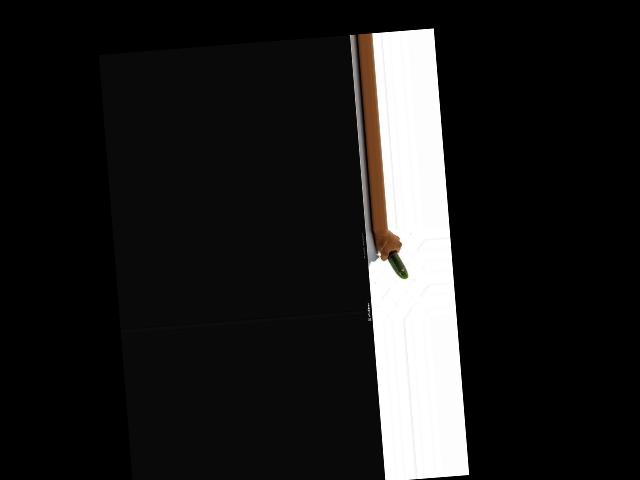cucumber: (386, 249, 408, 280)
